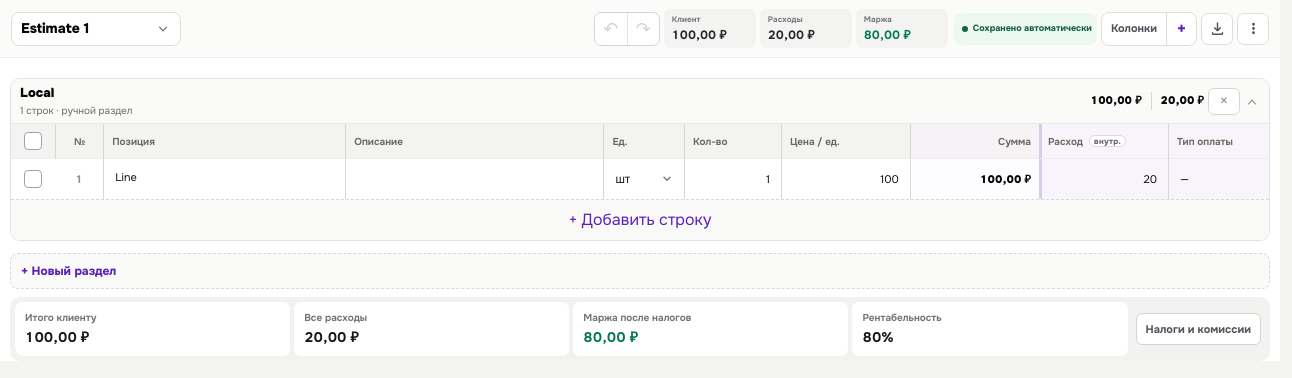
Test: project estimate lifecycle › discards a destructive empty stored draft and requires explicit confirmation for deletion
The image size is (1292, 378).
Step 1. Click the button named "Удалить раздел" → (1224, 101), box [1208, 88, 1240, 115]
Wait 1400 ms
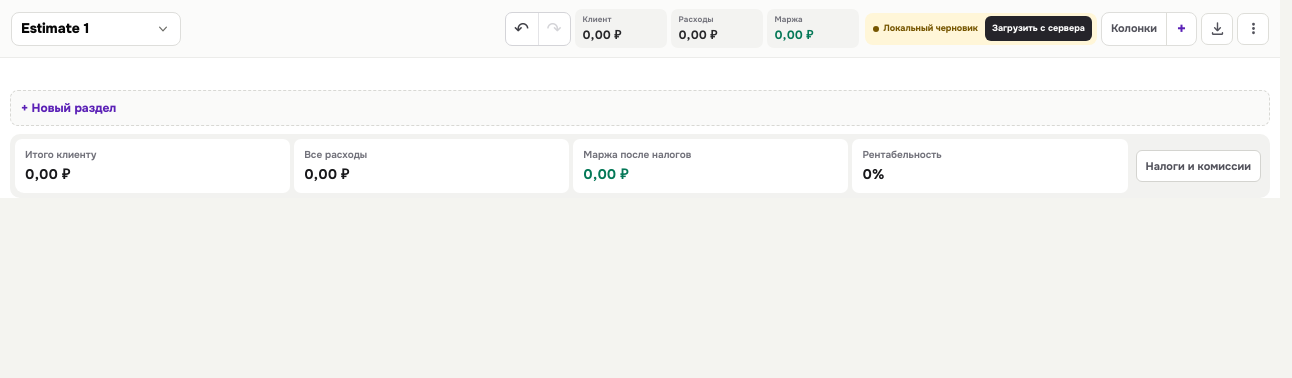
Expected: the text "Локальный черновик" is shown, [872, 22, 978, 35]
Expected: the button "Загрузить с сервера" is shown
Step 2. Click the button "Загрузить с сервера" → (1038, 28), box [985, 16, 1092, 41]
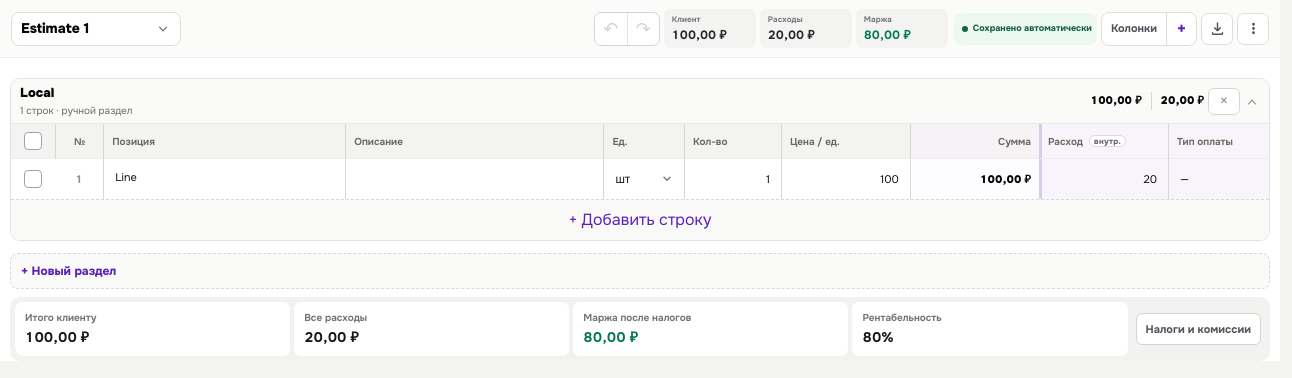
Expected: the button named "Отменить последнее изменение" is disabled, [595, 12, 627, 44]
